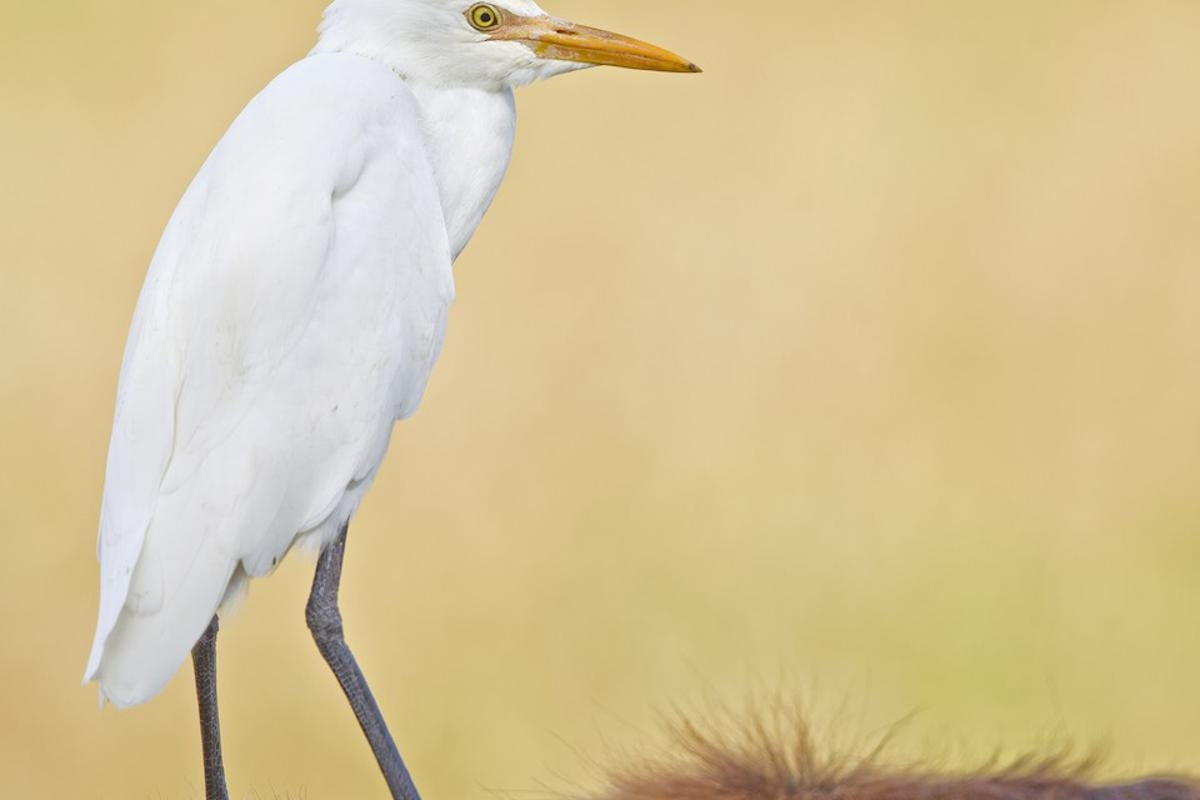egret: (1, 2, 758, 800)
